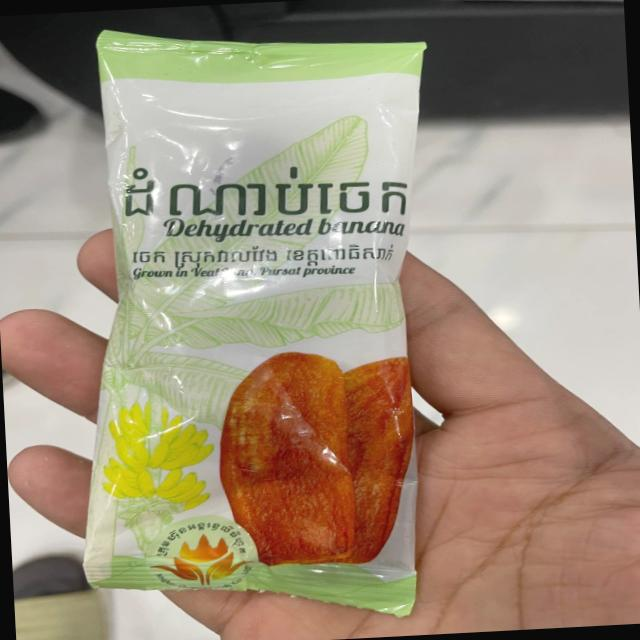2: (125, 243, 398, 272)
Yolov11kh: (115, 156, 418, 227)
